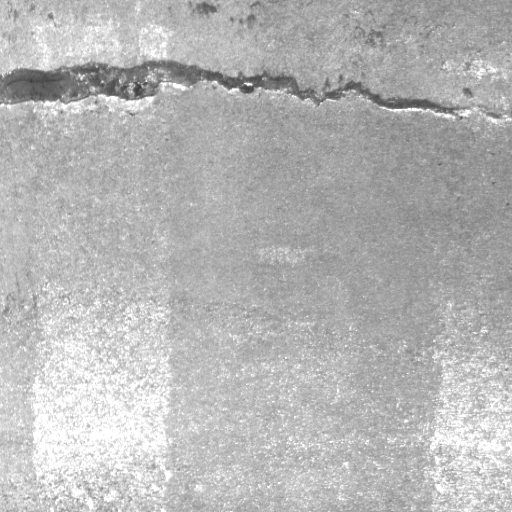qiaopi: (1, 56, 508, 125)
